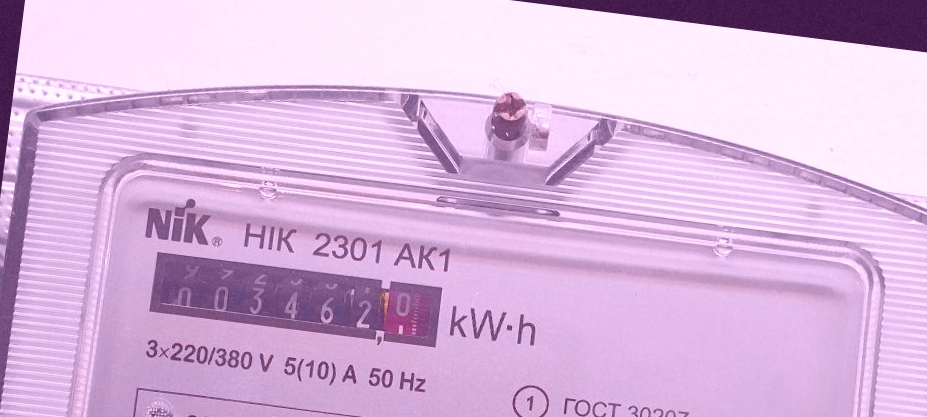0: (209, 282, 231, 313), (392, 290, 412, 320), (172, 283, 193, 308)
2: (352, 297, 374, 331)
3: (244, 284, 266, 318)
4: (281, 288, 302, 322)
6: (314, 292, 338, 328)
9: (178, 262, 200, 283)
screen: (134, 238, 454, 367)
